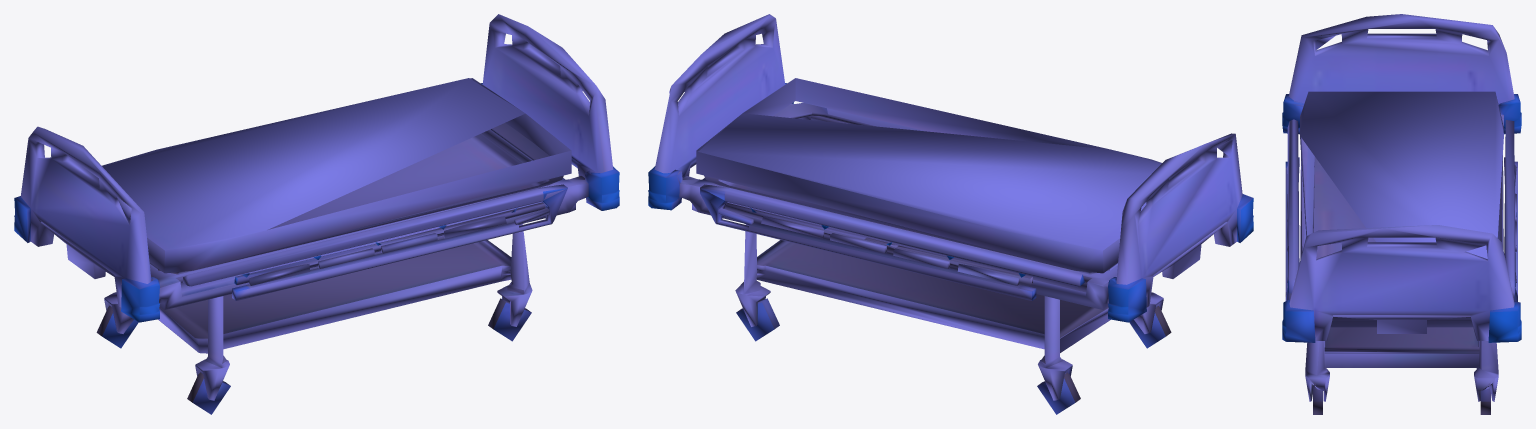
File: model.progressive.glb
3 views of the same model, side by side, from view 1: azimuth 30°, elevation 25°; view 2: azimuth 150°, elevation 25°; view 3: azimuth 270°, elevation 25° (orthographic). The views are drawn at different scales.
Parts seen in each view (by area): view 1: material; view 2: material; view 3: material.
Part boxes in pixels (bbox=[...]): material: bbox=[14, 14, 619, 414]; material: bbox=[648, 14, 1253, 414]; material: bbox=[1282, 14, 1521, 414].
Size of the model in its own units: 1.89 by 0.9197 by 0.8728.
1 material, 1 textured.
